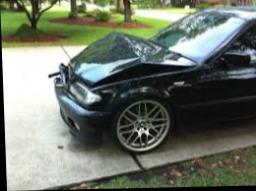Bonnet: (64, 30, 198, 88)
